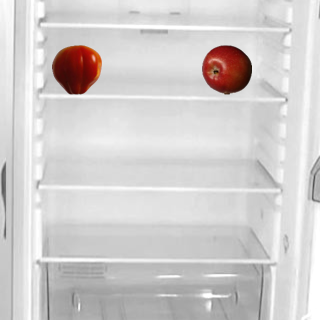Apple Braeburn: (201, 44, 251, 94)
Tomato 1: (51, 44, 101, 94)
